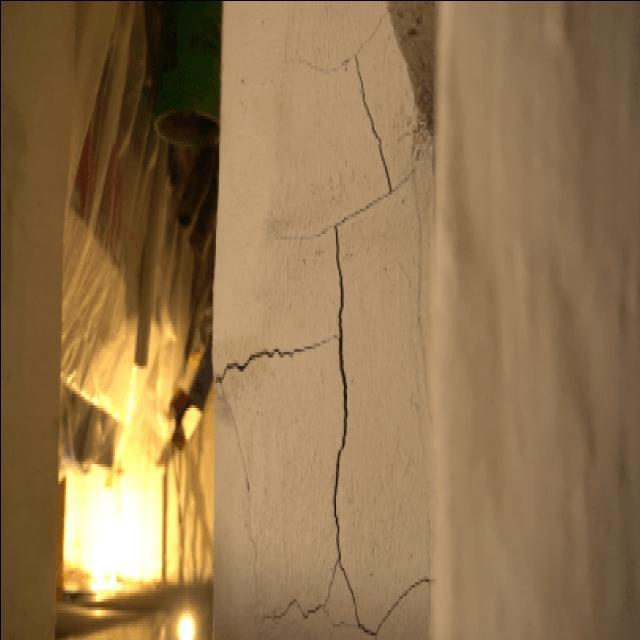wall_crack: (219, 0, 432, 640)
